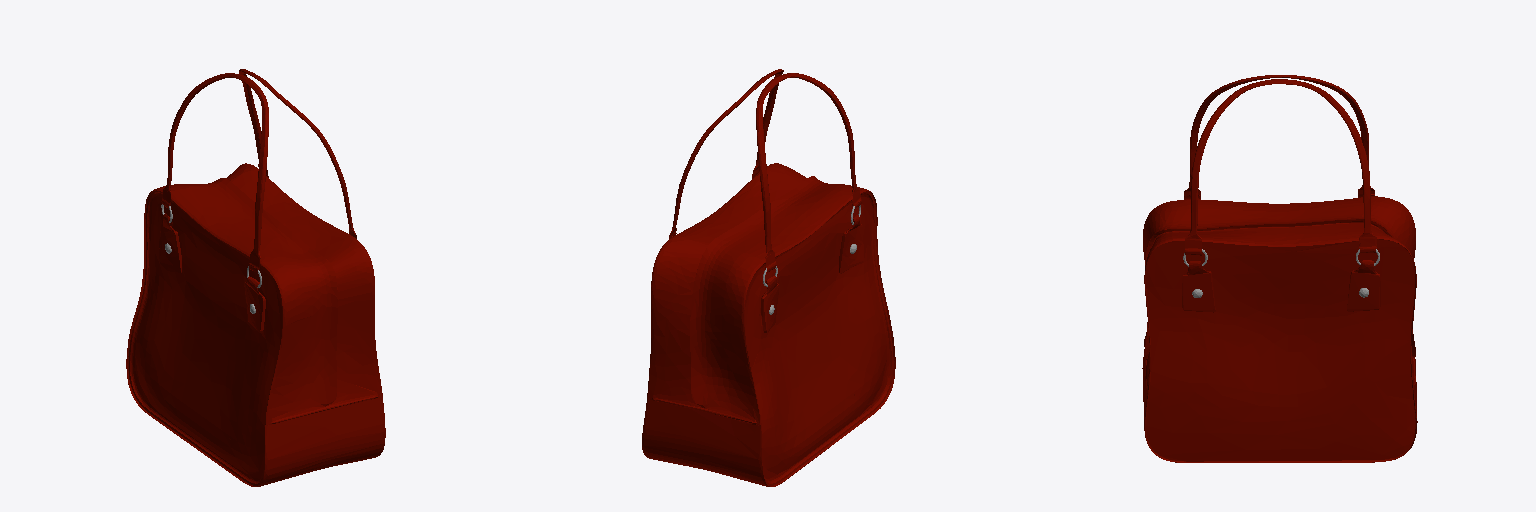
Rendered from small_bag_camel.obj.
3 renders of one model, left to right at view 1: azimuth 30°, elevation 25°; view 2: azimuth 150°, elevation 25°; view 3: azimuth 270°, elevation 25°, orthographic.
Parts seen in each view (by area): view 1: Box001; view 2: Box001; view 3: Box001.
Part boxes in pixels (left/top/right/bottom): Box001: left=126, top=69, right=385, bottom=486; Box001: left=642, top=69, right=895, bottom=486; Box001: left=1142, top=75, right=1417, bottom=462.
Size of the model in its own units: 0.0099 by 0.0271 by 0.019.